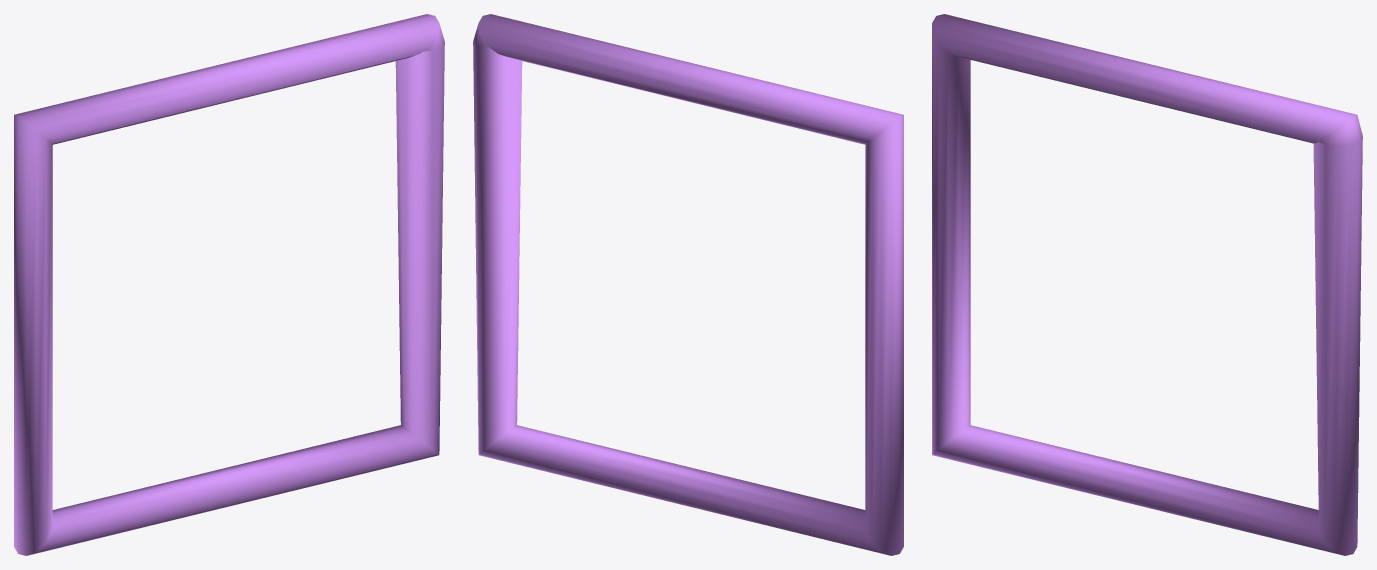
File: square-ddEcv1Yr.glb
3 renders of one model, left to right at view 1: azimuth 30°, elevation 25°; view 2: azimuth 150°, elevation 25°; view 3: azimuth 330°, elevation 25°, orthographic.
Visible parts, largest first — view 1: R3D_square_Body_0; view 2: R3D_square_Body_0; view 3: R3D_square_Body_0.
Boxes of the visible parts, <box> form: R3D_square_Body_0: <box>14,14,444,555</box>; R3D_square_Body_0: <box>473,14,903,555</box>; R3D_square_Body_0: <box>932,14,1362,555</box>.
Size of the model in its own units: 1.78 by 1.75 by 0.18.
